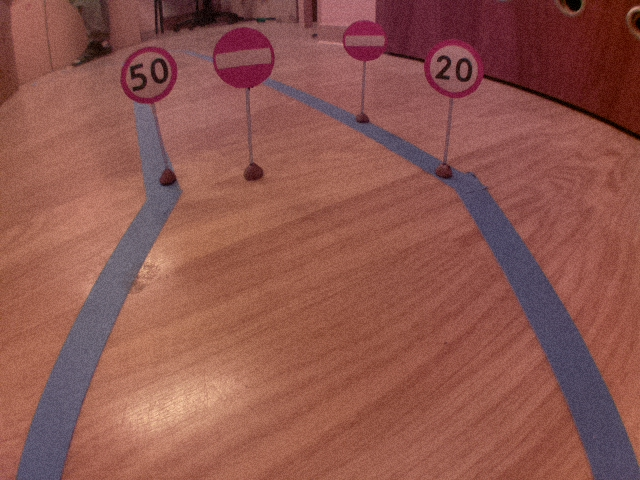ogr_20: (422, 36, 486, 100)
ogr_50: (119, 45, 180, 105)
zakaz: (211, 25, 278, 91), (339, 18, 388, 63)
